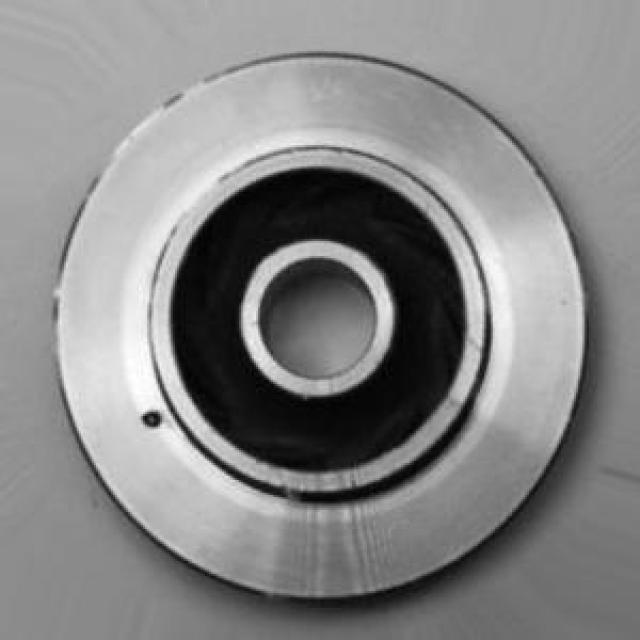Defect: (130, 389, 168, 439)
